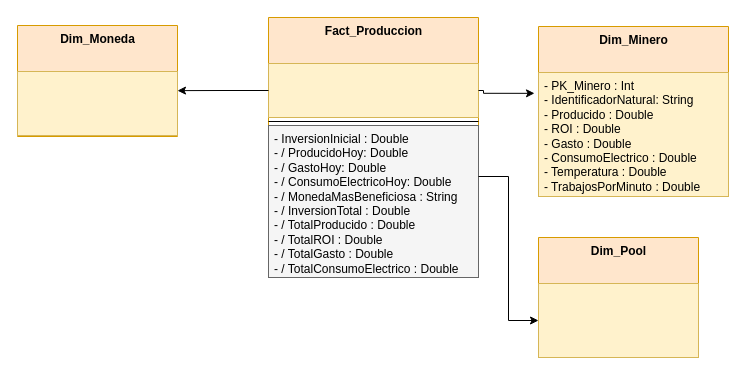
Image size: 746x378. Some labels were removed from this diagram. The shapes that lost their labels are listed below. From the top down, each one's centre as x and y in pixels, then its label:
At [97,103]: "- PK_Moneda - Cotizacion - Dificultad".
At [373,90]: "- FK_Minero : Int - FK_Moneda : Int - FK_Pool : Int".
At [618,320]: "- PK_Pool : Int - Url : String - Puerto : Int - Operativo : Boolean".
